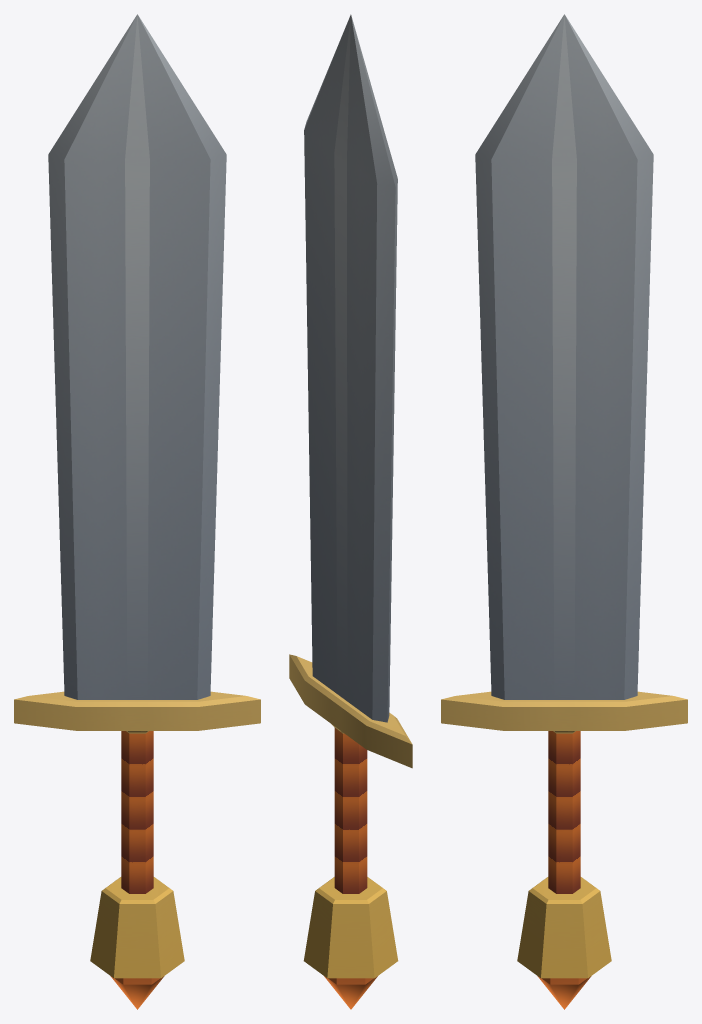
Rendered from Sword.fbx.
3 renders of one model, left to right at view 1: azimuth 90°, elevation 25°; view 2: azimuth 210°, elevation 25°; view 3: azimuth 270°, elevation 25°, orthographic.
Parts seen in each view (by area): view 1: Sword; view 2: Sword; view 3: Sword.
Boxes of the visible parts, x1,y1,x2,y2 form: Sword: (14, 14, 260, 1009); Sword: (289, 14, 412, 1009); Sword: (441, 14, 687, 1009).
Bounding box in the file's own units: 0.1462 × 1.96 × 0.4408.
1 material, 1 textured.
